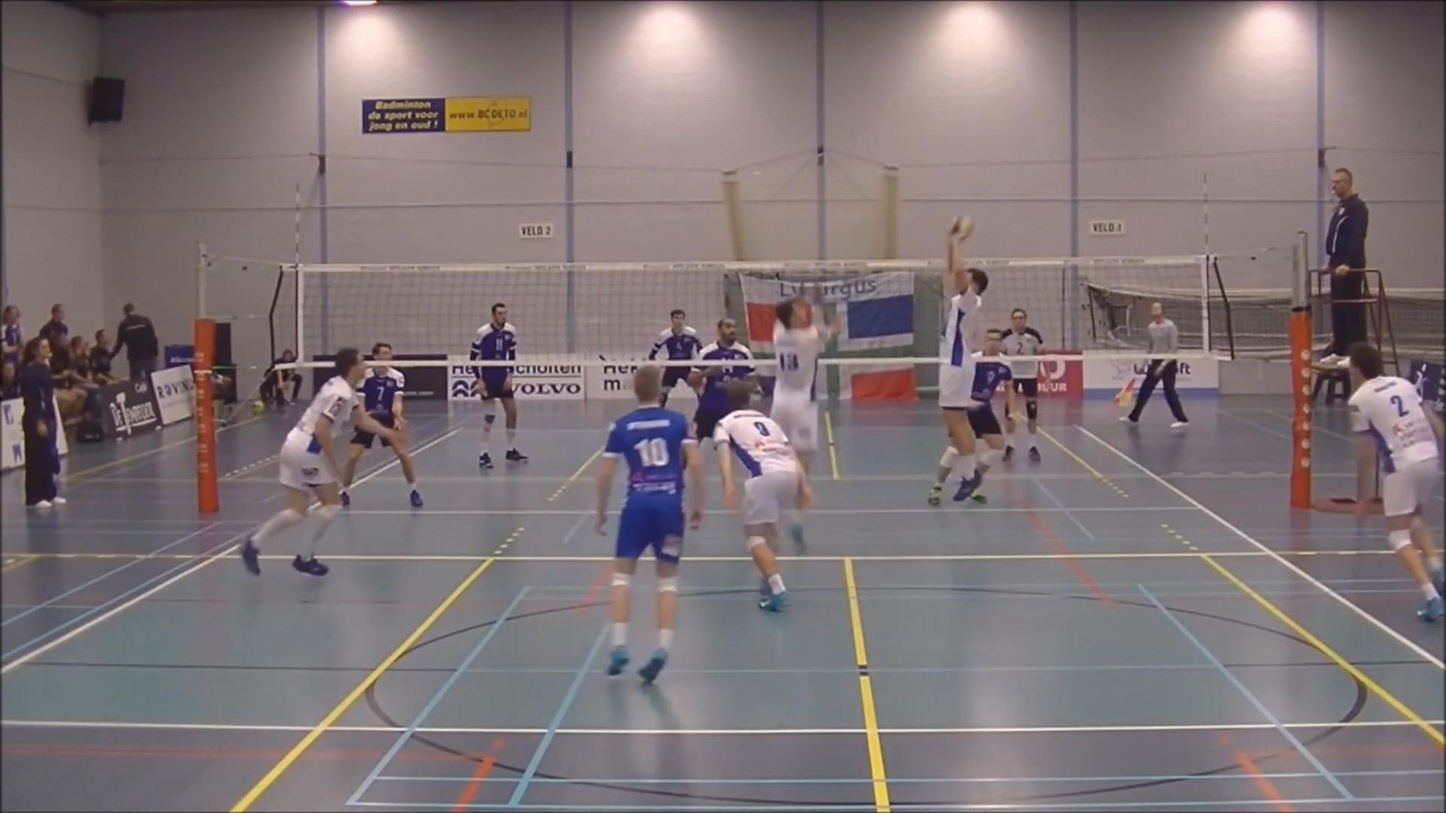Player: (241, 348, 399, 576), (596, 366, 703, 684), (1348, 343, 1445, 621), (713, 380, 812, 611), (770, 297, 839, 473), (953, 329, 1015, 503), (688, 318, 754, 445), (475, 364, 526, 467), (360, 342, 404, 429), (1011, 361, 1040, 462), (648, 309, 702, 361)
Set: (934, 226, 989, 506)
ball: (945, 215, 977, 239)
